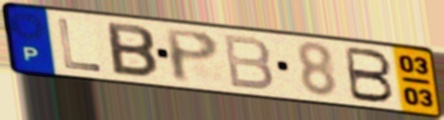8: (294, 40, 339, 101)
B: (104, 20, 161, 80), (220, 32, 276, 93), (343, 44, 397, 105)
L: (55, 17, 104, 74)
P: (161, 27, 223, 86)
